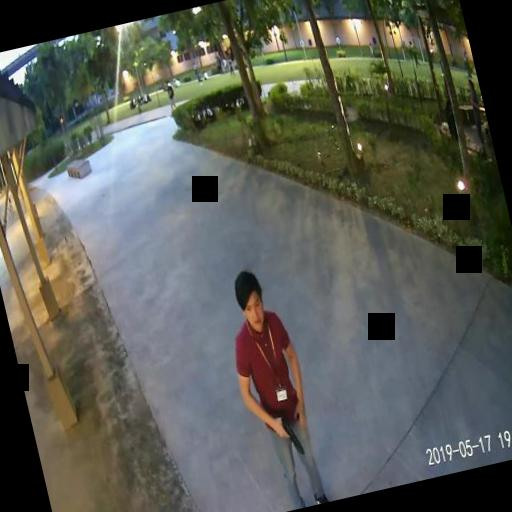Handgun: (275, 413, 302, 455)
